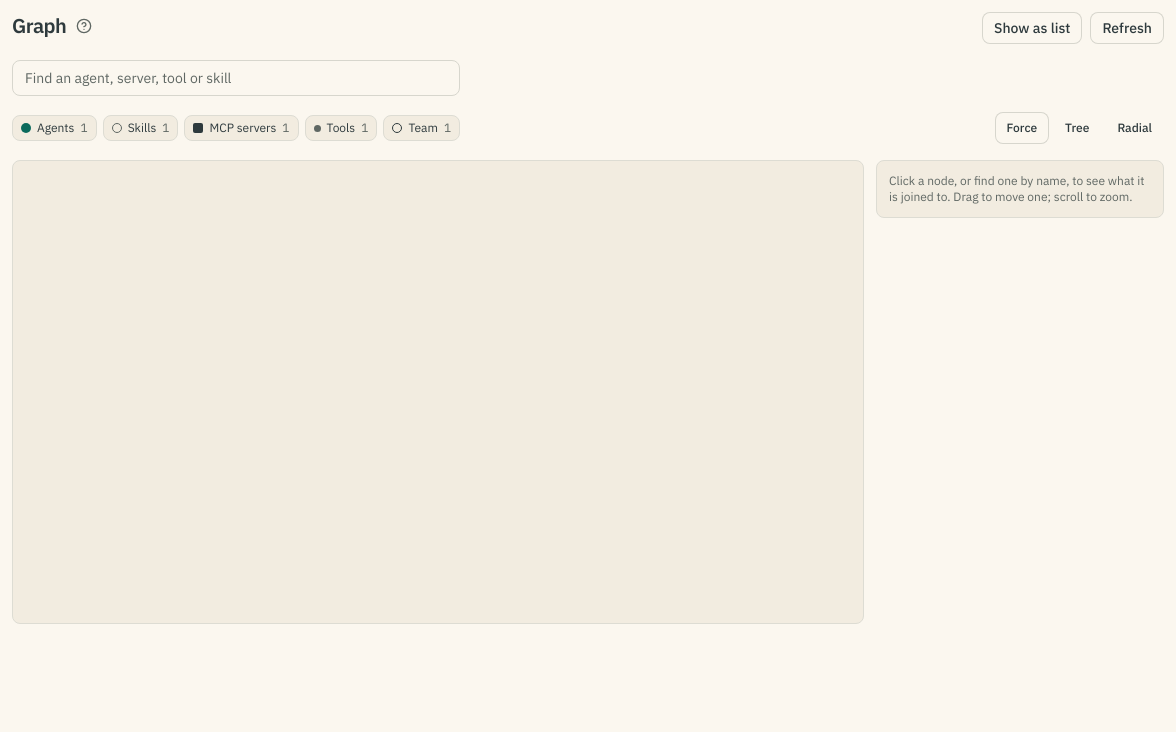
Scenario: finding a node › says when nothing shown is named like that
This screenshot has width=1176, height=732.
Type "zzz" into the search field named "find in the graph" at (236, 78), box left=12, top=60, right=460, bottom=96
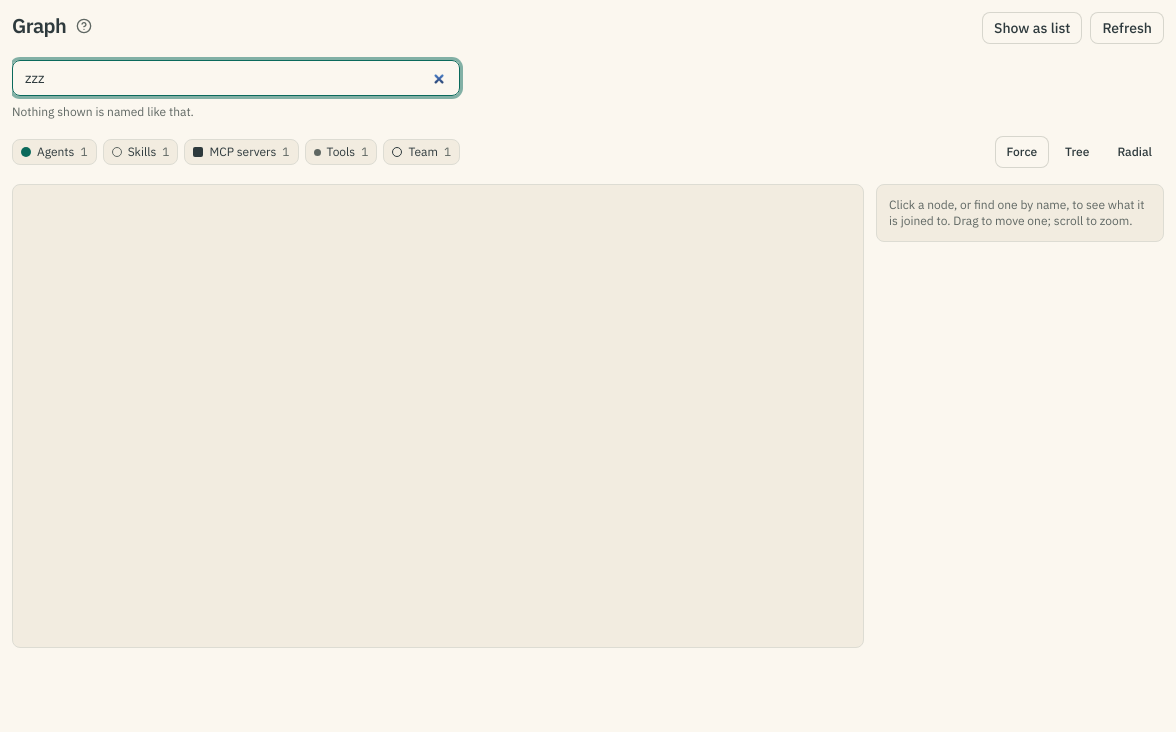
Now the text "Nothing shown is named like that." is shown, box left=12, top=104, right=194, bottom=119
